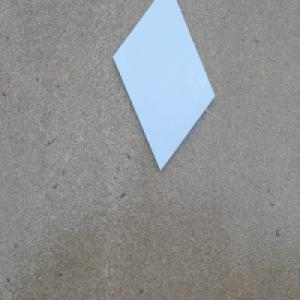PaintChip: (111, 0, 215, 174)
